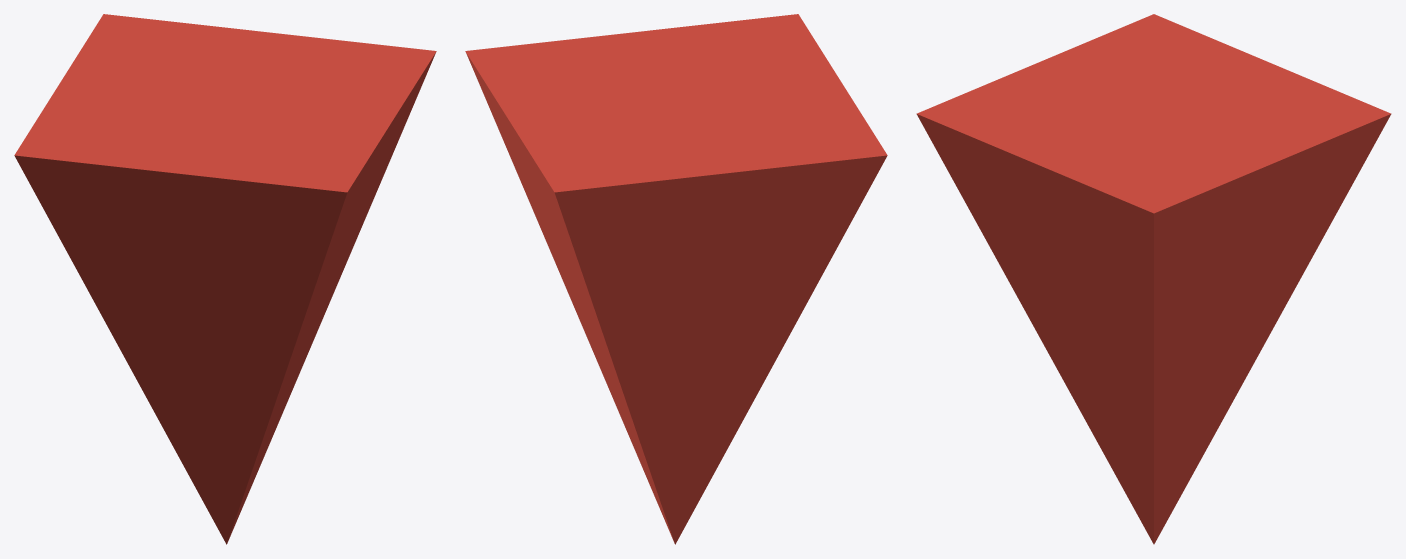
Rendered from current_location.glb.
3 renders of one model, left to right at view 1: azimuth 30°, elevation 25°; view 2: azimuth 150°, elevation 25°; view 3: azimuth 270°, elevation 25°, orthographic. The views are drawn at different scales.
Parts seen in each view (by area): view 1: 円錐; view 2: 円錐; view 3: 円錐.
Boxes of the visible parts, x1,y1,x2,y2 form: 円錐: (14,14,436,544); 円錐: (465,14,887,544); 円錐: (916,14,1391,544).
Bounding box in the file's own units: 2.29 × 2.29 × 2.29.
